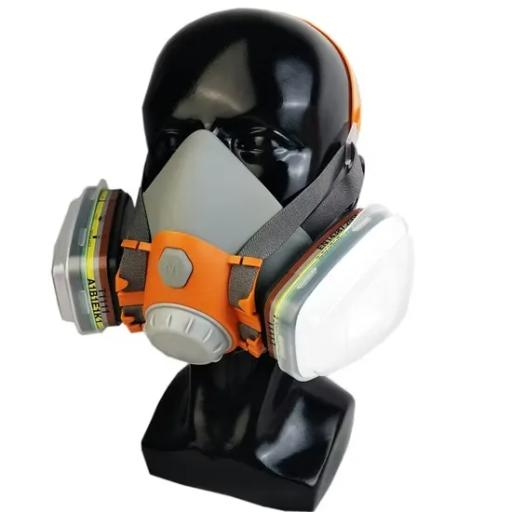mask: (55, 126, 376, 385)
